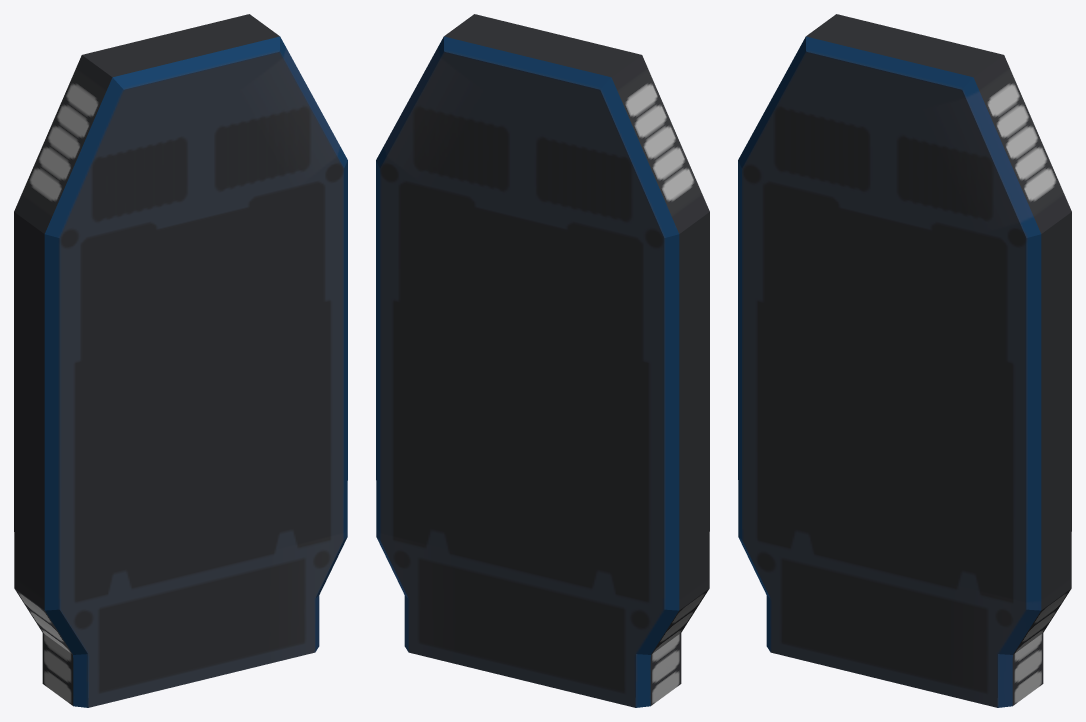
The model's file is Element_5_Sci_Fi.fbx.
3 renders of one model, left to right at view 1: azimuth 30°, elevation 25°; view 2: azimuth 150°, elevation 25°; view 3: azimuth 330°, elevation 25°, orthographic.
Parts seen in each view (by area): view 1: Sci_Fi_element_5; view 2: Sci_Fi_element_5; view 3: Sci_Fi_element_5.
Part boxes in pixels (bbox=[...]): Sci_Fi_element_5: bbox=[14, 14, 347, 707]; Sci_Fi_element_5: bbox=[376, 14, 709, 707]; Sci_Fi_element_5: bbox=[738, 14, 1071, 707].
Size of the model in its own units: 215 by 420 by 51.07.
